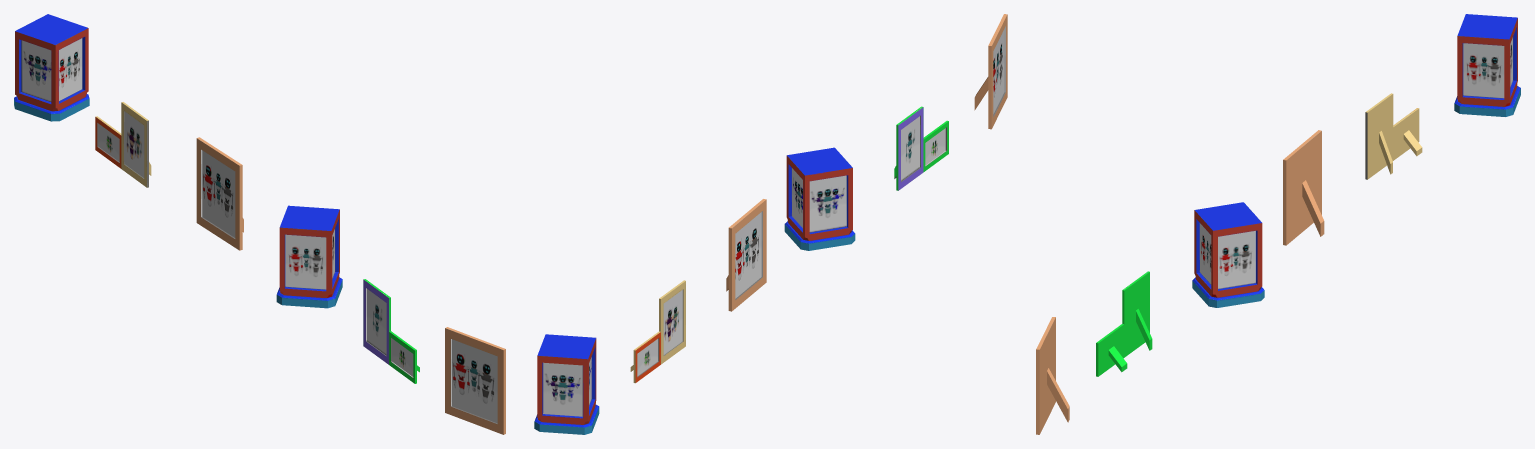
File: portaretratocomfoto.fbx
3 views of the same model, side by side, from view 1: azimuth 30°, elevation 25°; view 2: azimuth 150°, elevation 25°; view 3: azimuth 330°, elevation 25° (orthographic). The views are drawn at different scales.
Visible parts, largest first — view 1: polySurface74, polySurface76, polySurface78, polySurface75, polySurface73, polySurface77; view 2: polySurface76, polySurface74, polySurface75, polySurface77, polySurface73, polySurface78; view 3: polySurface76, polySurface74, polySurface75, polySurface73, polySurface77, polySurface78.
Part boxes in pixels (box(x1,y1,x2,y2)): polySurface74: box(14, 14, 89, 121); polySurface76: box(276, 205, 342, 308); polySurface78: box(445, 327, 505, 434); polySurface75: box(196, 137, 243, 250); polySurface73: box(95, 102, 151, 187); polySurface77: box(363, 279, 419, 383); polySurface76: box(784, 147, 855, 250); polySurface74: box(534, 334, 599, 434); polySurface75: box(726, 199, 766, 311); polySurface77: box(894, 106, 948, 190); polySurface73: box(630, 280, 685, 383); polySurface78: box(974, 14, 1007, 129); polySurface76: box(1192, 202, 1264, 307); polySurface74: box(1454, 14, 1520, 116); polySurface75: box(1283, 130, 1324, 245); polySurface73: box(1365, 93, 1422, 179); polySurface77: box(1096, 271, 1152, 376); polySurface78: box(1036, 317, 1069, 434).
Bounding box in the file's own units: 1 × 1.25 × 12.47.
4 materials, 4 textured.
